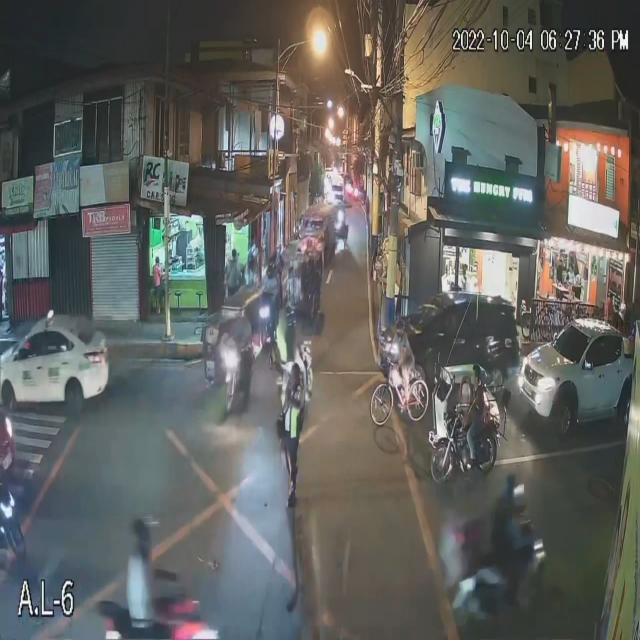Full-Faced: (503, 464, 524, 502)
Half-Faced: (128, 510, 164, 566)
